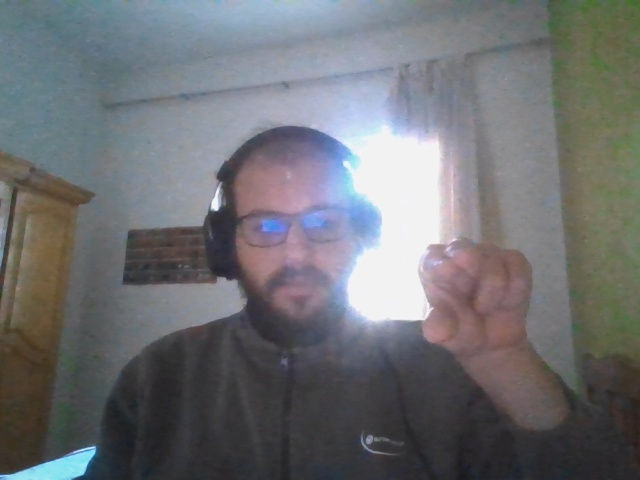No: (418, 244, 535, 351)
